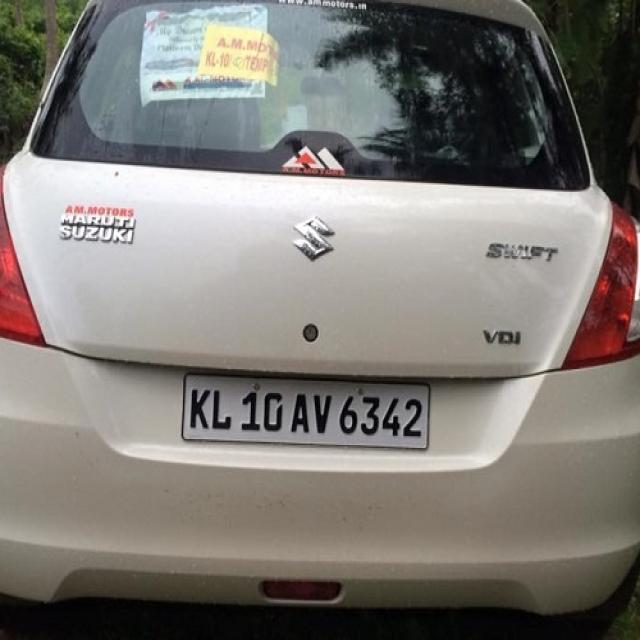number_plate: (180, 375, 438, 451)
